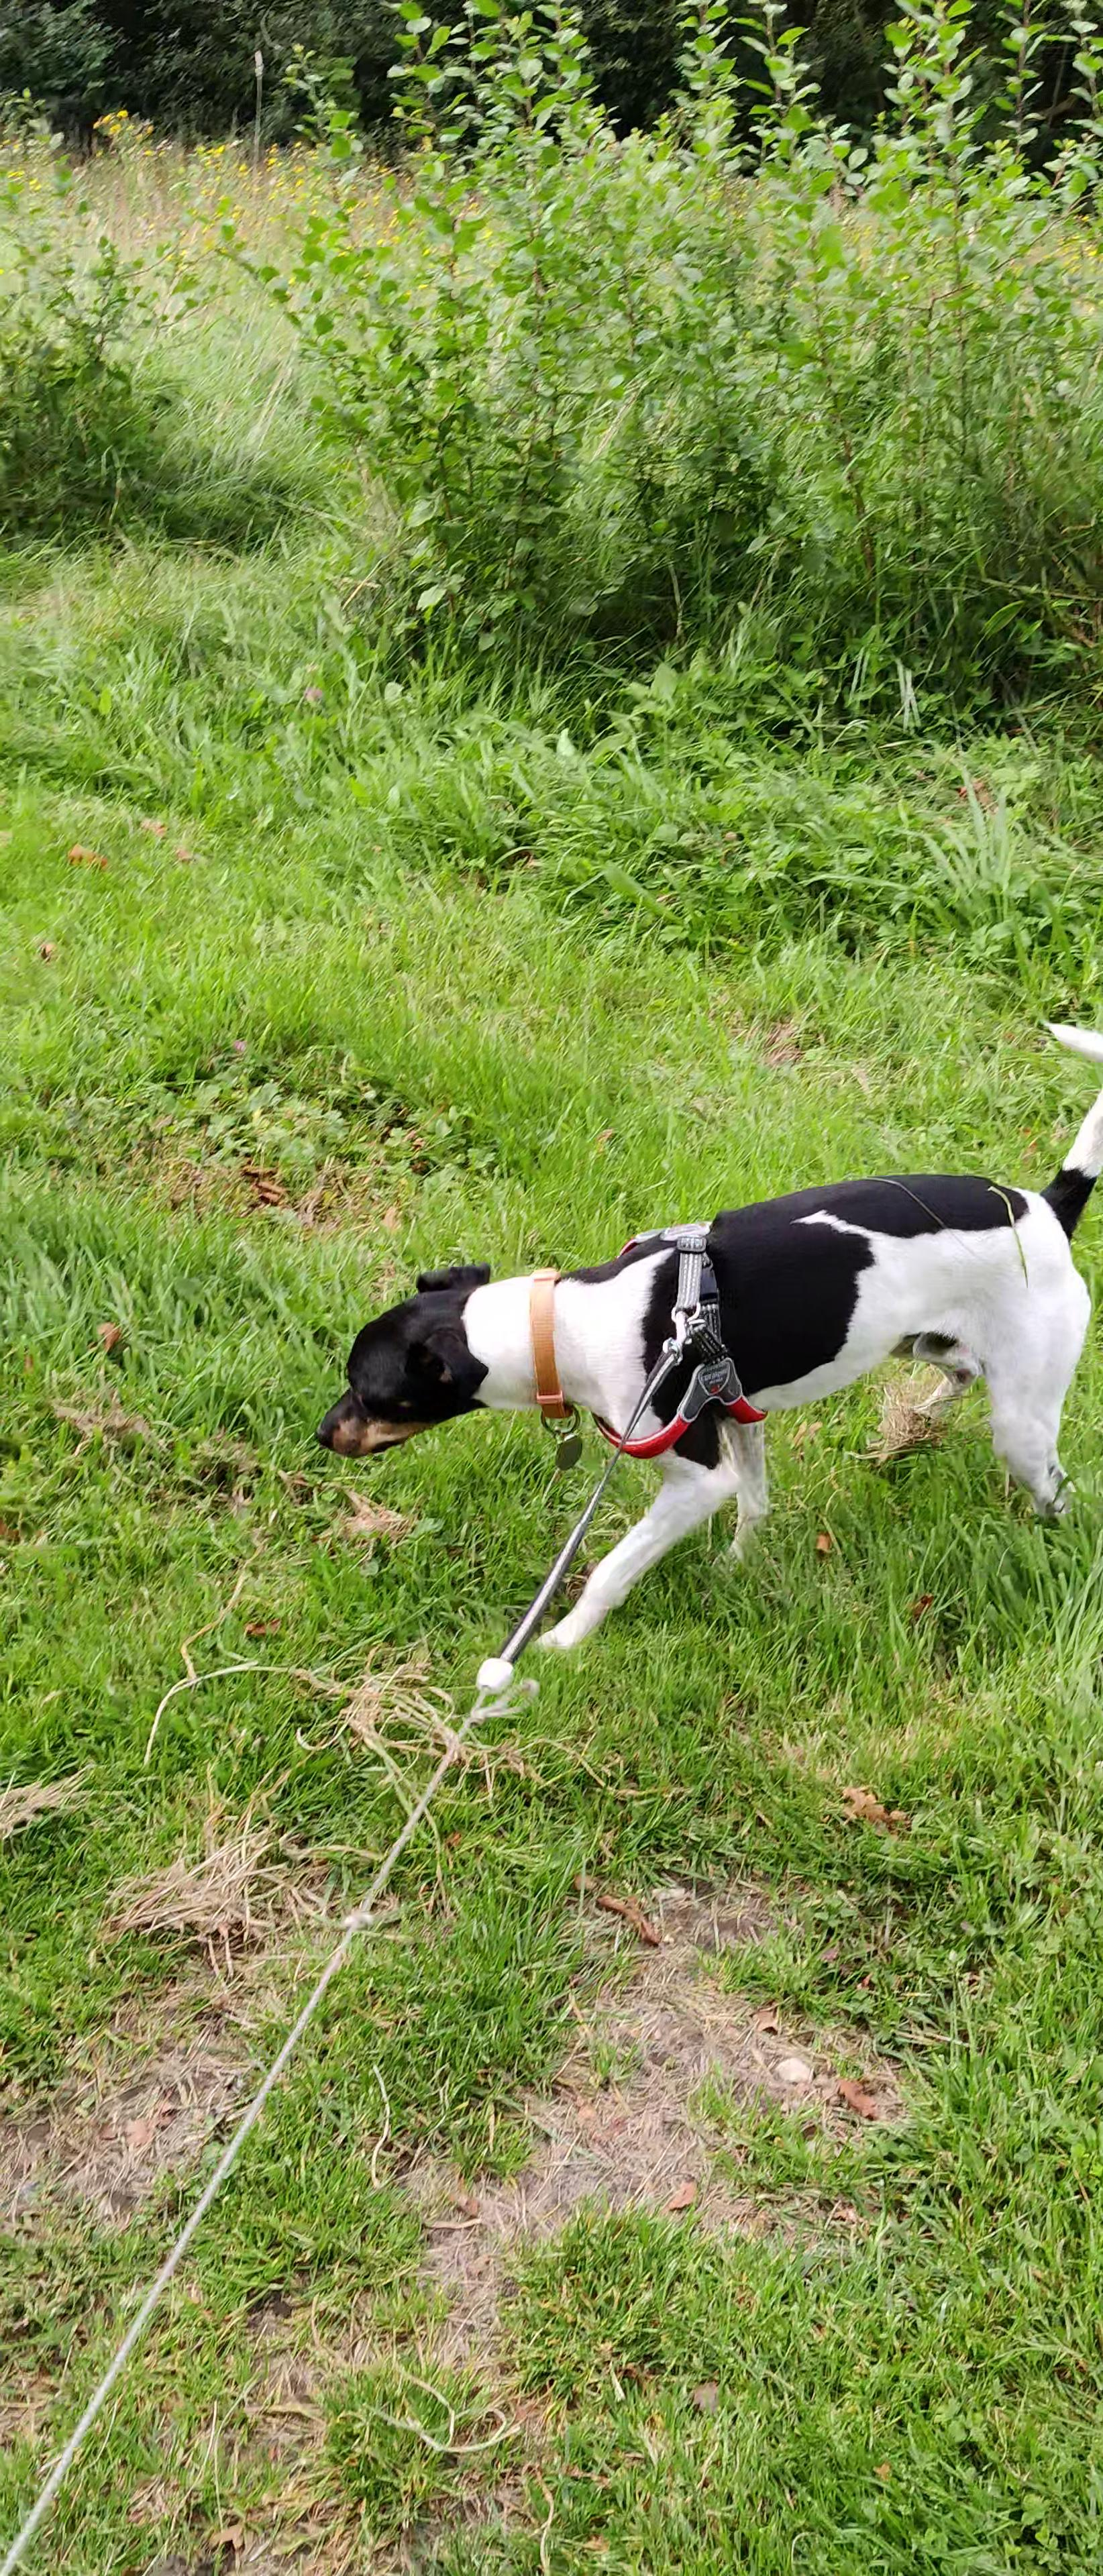Dog: (304, 1015, 1103, 1656)
